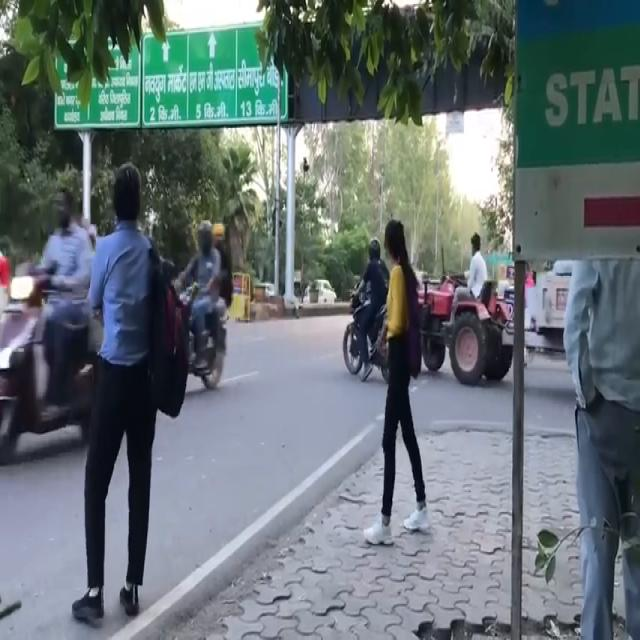MOTORCYCLE: (181, 282, 228, 399), (344, 279, 396, 380)
